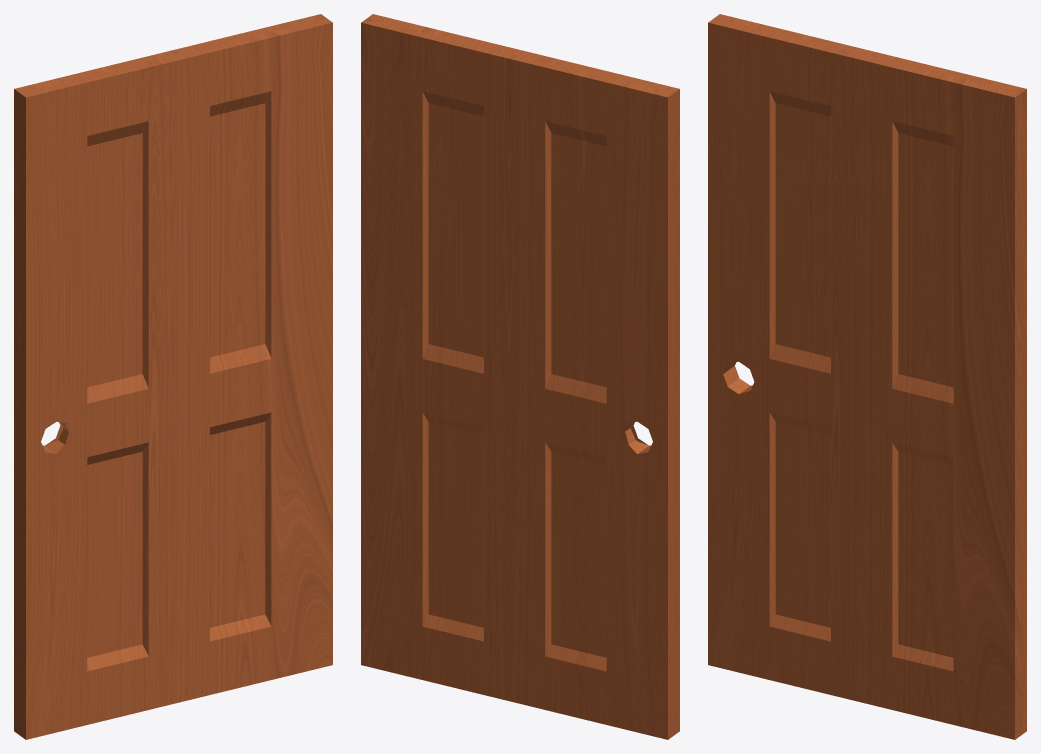
The model's file is Door-NoKnob.fbx.
The picture shows the model from 3 angles, left to right: view 1: azimuth 30°, elevation 25°; view 2: azimuth 150°, elevation 25°; view 3: azimuth 330°, elevation 25°; orthographic projection.
Parts seen in each view (by area): view 1: Door; view 2: Door; view 3: Door.
Part boxes in pixels (box(x1,y1,x2,y2)): Door: box(14, 14, 332, 739); Door: box(361, 14, 679, 739); Door: box(708, 14, 1026, 739).
Bounding box in the file's own units: 300 × 600 × 20.
Materials: 1 (1 with a texture image).
